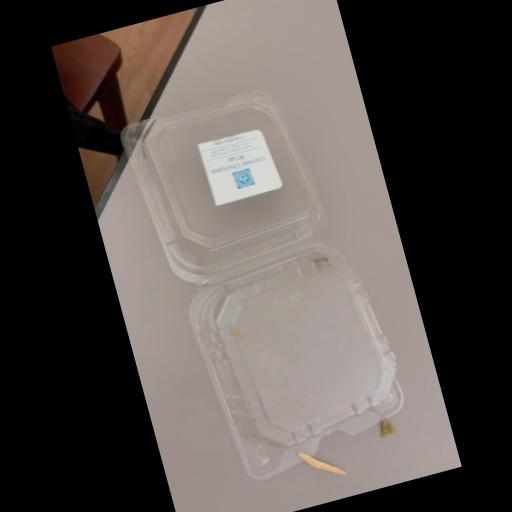small_plastic_container: (117, 74, 418, 492)
